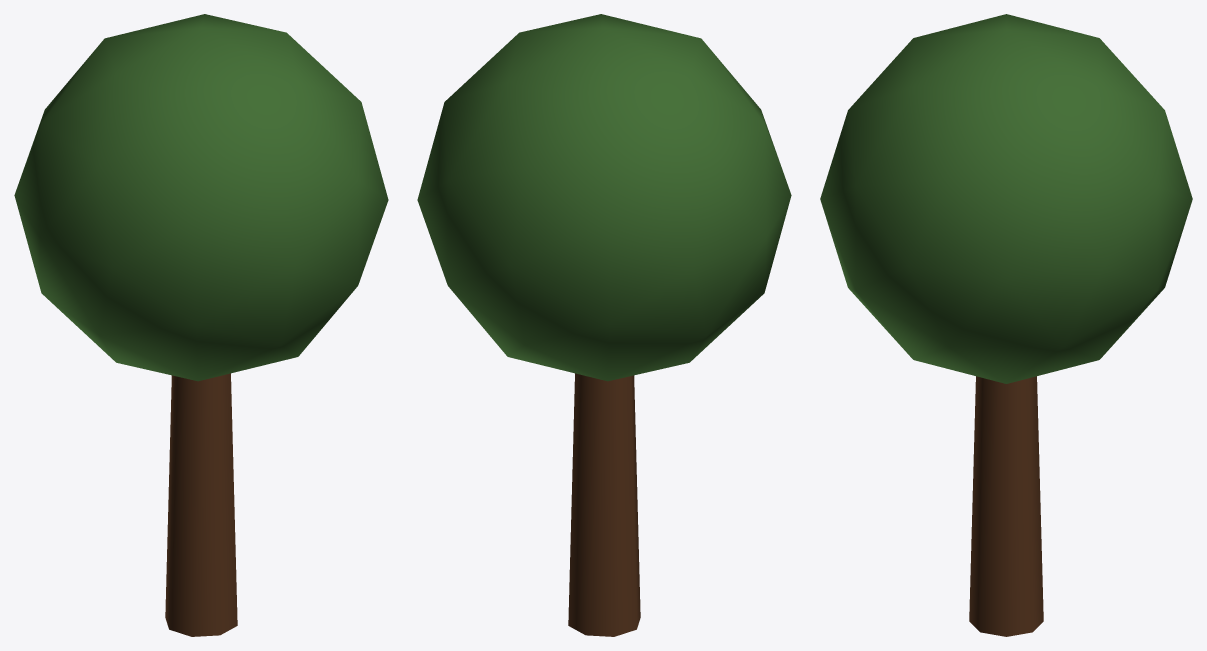
The model's file is street-tree.glb.
3 renders of one model, left to right at view 1: azimuth 30°, elevation 25°; view 2: azimuth 150°, elevation 25°; view 3: azimuth 270°, elevation 25°, orthographic.
Parts seen in each view (by area): view 1: tree-body; view 2: tree-body; view 3: tree-body.
Part boxes in pixels (<box>): tree-body: <box>14,14,388,636</box>; tree-body: <box>417,14,791,636</box>; tree-body: <box>820,14,1192,636</box>.
Size of the model in its own units: 2 by 3.5 by 2.
